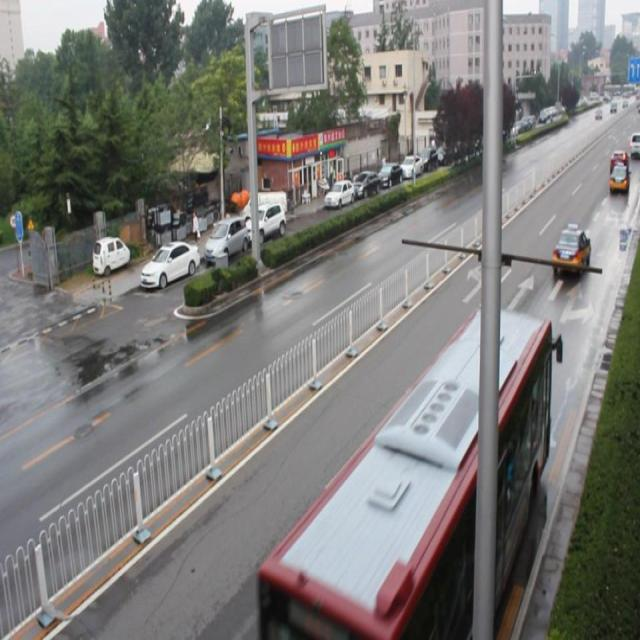car: (550, 222, 589, 274), (607, 160, 627, 192)
van: (259, 306, 559, 628)
